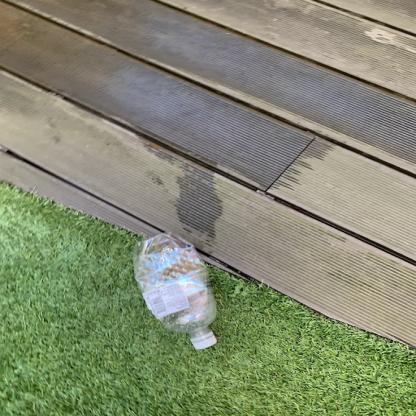trash: (128, 230, 230, 350)
